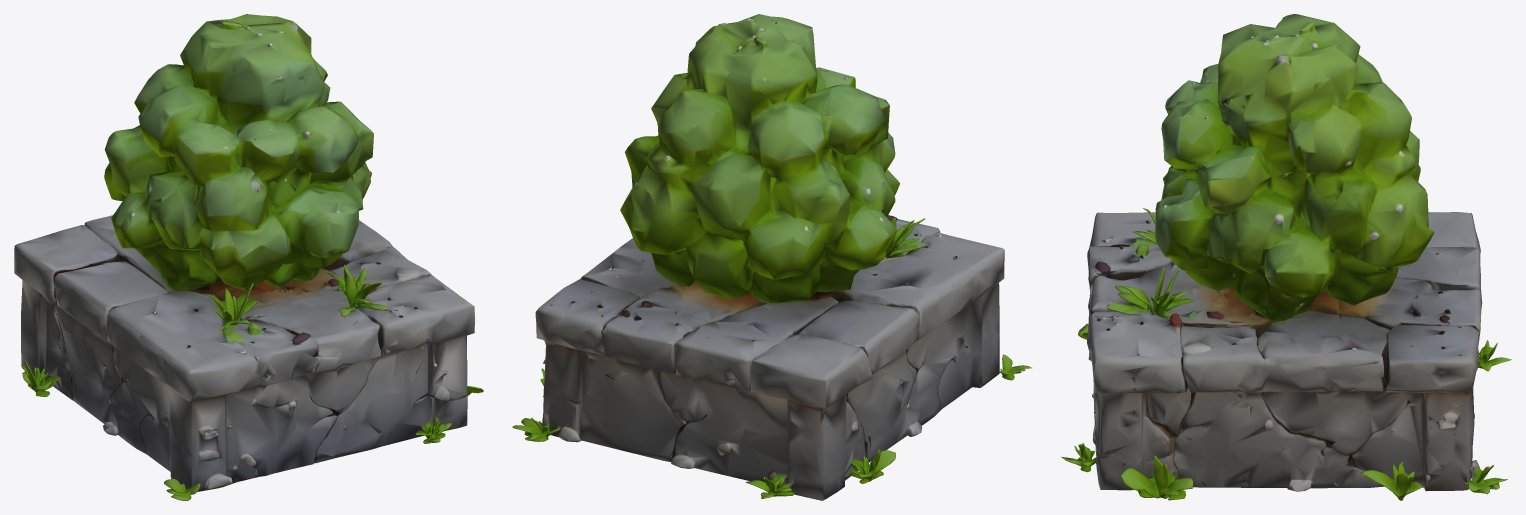
The model's file is prop_bush.glb.
3 views of the same model, side by side, from view 1: azimuth 30°, elevation 25°; view 2: azimuth 150°, elevation 25°; view 3: azimuth 270°, elevation 25° (orthographic). The views are drawn at different scales.
Visible parts, largest first — view 1: tripo_node_ba630c72-0977-45b4-a4de-1798c4e59ef9; view 2: tripo_node_ba630c72-0977-45b4-a4de-1798c4e59ef9; view 3: tripo_node_ba630c72-0977-45b4-a4de-1798c4e59ef9.
Boxes of the visible parts, x1,y1,x2,y2 form: tripo_node_ba630c72-0977-45b4-a4de-1798c4e59ef9: (14,14,483,500); tripo_node_ba630c72-0977-45b4-a4de-1798c4e59ef9: (512,14,1031,500); tripo_node_ba630c72-0977-45b4-a4de-1798c4e59ef9: (1061,14,1511,500).
Bounding box in the file's own units: 0.9234 × 0.9617 × 0.9994.
Materials: 1 (1 with a texture image).
